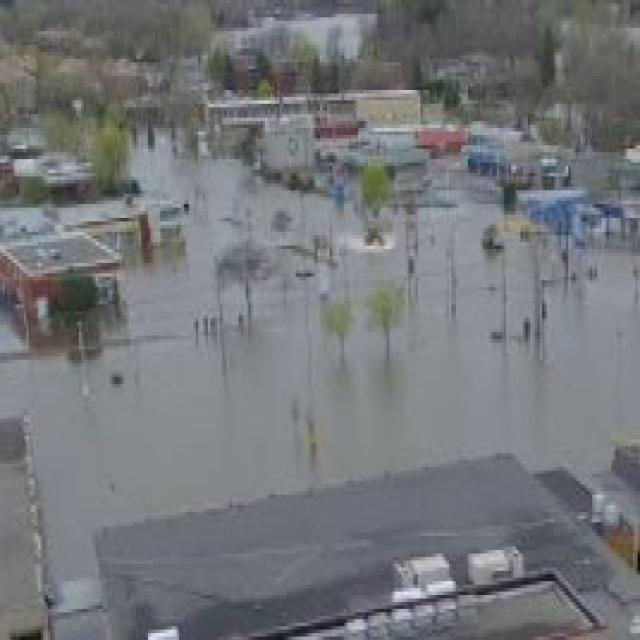flooded_areas: (0, 124, 638, 494)
